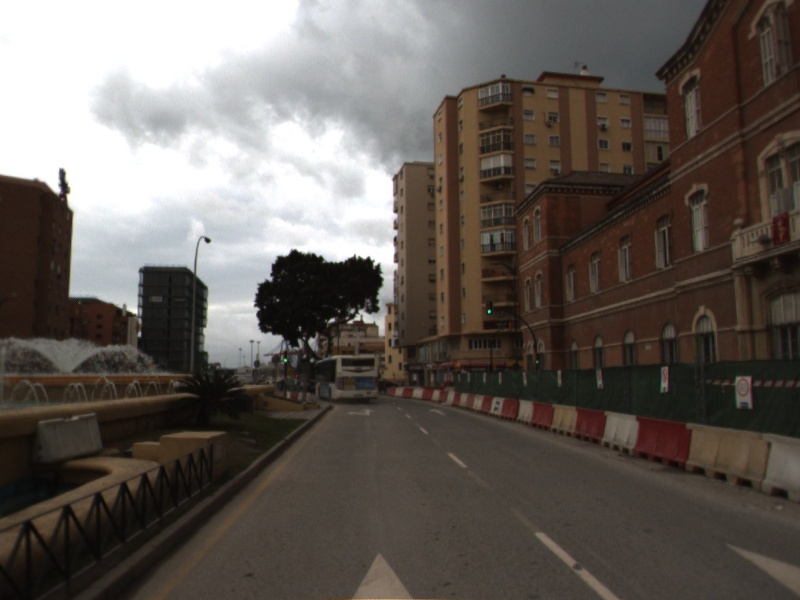STRAIGHT: (427, 406, 450, 417)
STRAIGHT_LEFT: (345, 407, 378, 418)
